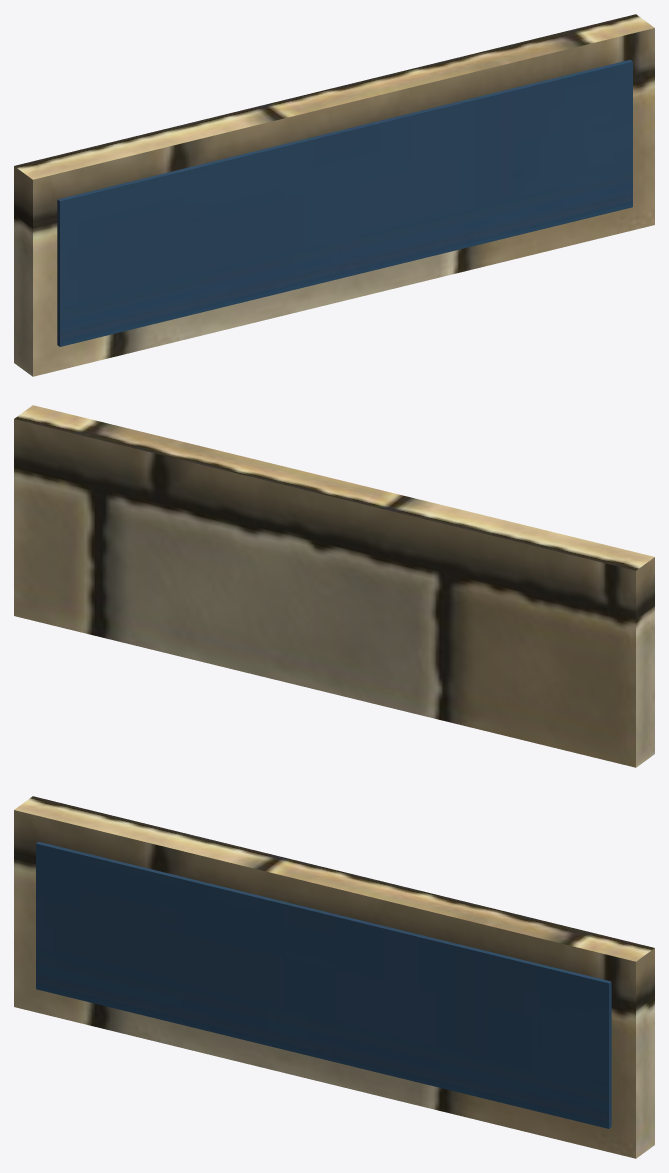
Rendered from street_plaque.glb.
3 renders of one model, top to bottom at view 1: azimuth 30°, elevation 25°; view 2: azimuth 150°, elevation 25°; view 3: azimuth 330°, elevation 25°, orthographic.
Parts seen in each view (by area): view 1: props_0_0; view 2: props_0_0; view 3: props_0_0.
Part boxes in pixels (box(x1,y1,x2,y2)): props_0_0: box(14, 14, 654, 376); props_0_0: box(14, 405, 654, 767); props_0_0: box(14, 796, 654, 1158).
Bounding box in the file's own units: 1.52 × 0.46 × 0.091.
Materials: 1 (1 with a texture image).
